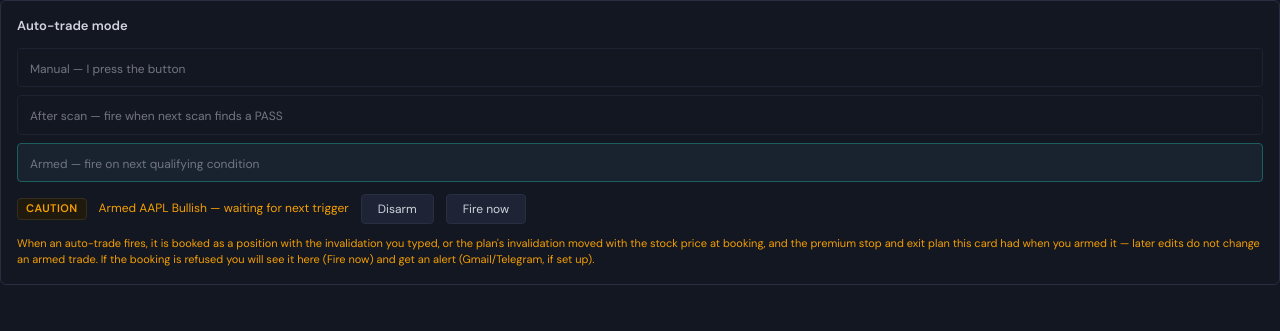
AutoTradeArm — O4 step 6: reading the /fire result › 14. a pre-O4 response (no `booked` key) is neither "not booked" nor synced
Click the button "Fire now" at (486, 209), box [446,194,526,224]
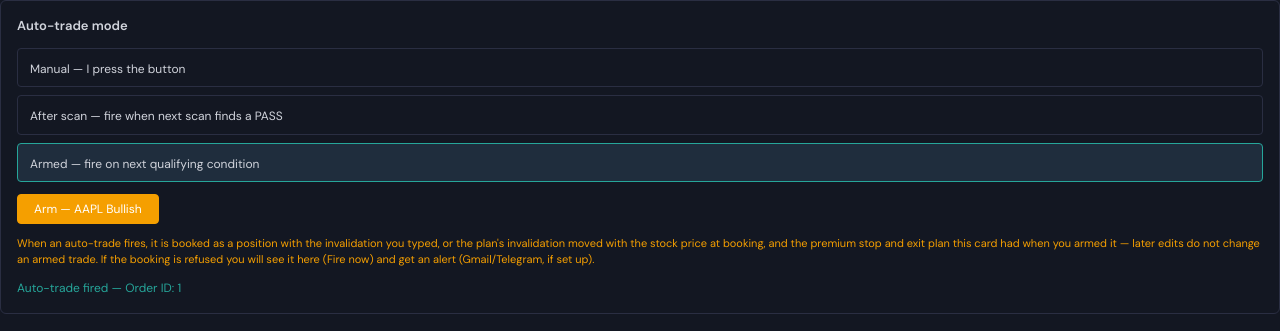
Expected: the text "Auto-trade fired — Order ID: 1" is shown, [17,280,181,296]
